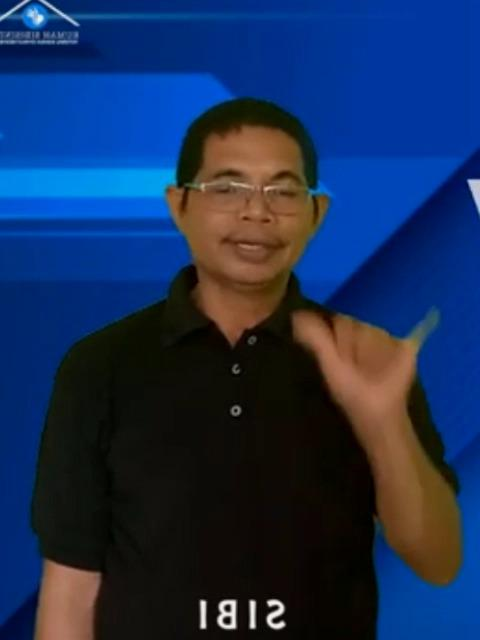Y: (282, 298, 442, 417)
